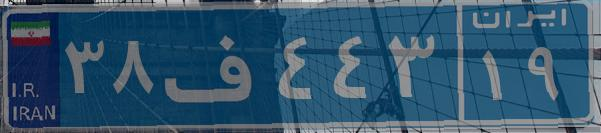1: (475, 38, 525, 113)
3: (385, 28, 445, 110), (57, 26, 110, 107)
4: (273, 28, 330, 110), (330, 28, 385, 110)
8: (110, 28, 158, 105)
9: (525, 38, 570, 115)
ف: (158, 15, 273, 115)
